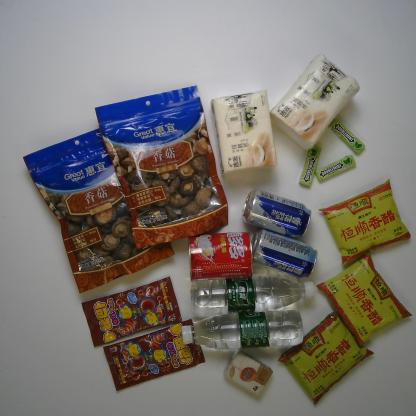Alcohol: (241, 189, 312, 241), (249, 230, 317, 281)
Candy: (102, 318, 206, 392), (81, 277, 183, 347)
Canned Food: (188, 231, 253, 282)
Dried Food: (22, 119, 175, 293), (94, 86, 228, 250)
Drink: (189, 276, 316, 314), (182, 313, 304, 350)
Gum: (326, 116, 365, 154), (314, 154, 356, 184), (298, 142, 320, 189)
Seasoner: (316, 251, 414, 347), (277, 309, 373, 406), (319, 180, 411, 268)
Tissue: (268, 54, 361, 151), (210, 89, 276, 175), (222, 351, 274, 397)
